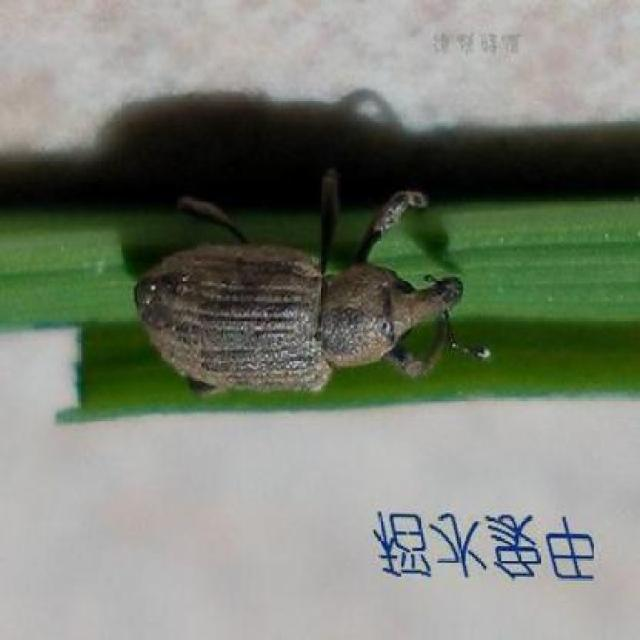rice-bug: (136, 187, 470, 408)
